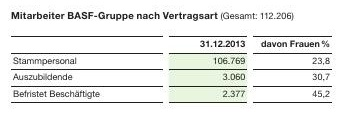table: (0, 0, 349, 118)
